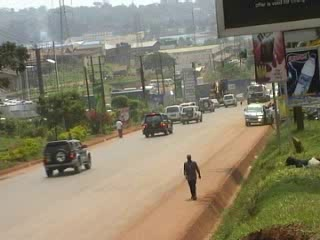Car: (41, 137, 93, 178), (139, 109, 175, 137), (178, 104, 203, 125), (195, 97, 216, 113), (209, 96, 221, 110)
